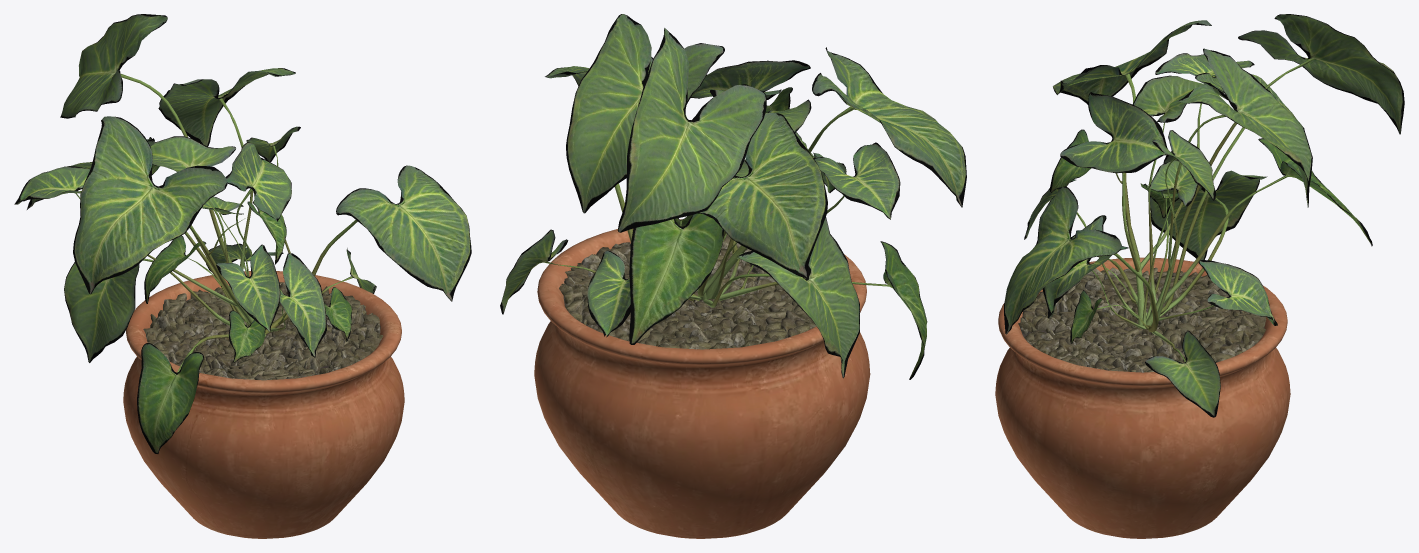
Rendered from potted_plant_02.glb.
3 renders of one model, left to right at view 1: azimuth 30°, elevation 25°; view 2: azimuth 150°, elevation 25°; view 3: azimuth 270°, elevation 25°, orthographic. The views are drawn at different scales.
Parts seen in each view (by area): view 1: potted_plant_02_leaves, potted_plant_02_pot; view 2: potted_plant_02_leaves, potted_plant_02_pot; view 3: potted_plant_02_pot, potted_plant_02_leaves.
Boxes of the visible parts, left/top/right/bottom form: potted_plant_02_leaves: left=14, top=14, right=471, bottom=453; potted_plant_02_pot: left=123, top=271, right=404, bottom=538; potted_plant_02_leaves: left=500, top=14, right=966, bottom=379; potted_plant_02_pot: left=534, top=219, right=870, bottom=538; potted_plant_02_pot: left=995, top=257, right=1290, bottom=538; potted_plant_02_leaves: left=1004, top=14, right=1404, bottom=417.
Bounding box in the file's own units: 0.7009 × 0.8412 × 0.6574.
2 materials, 2 textured.
